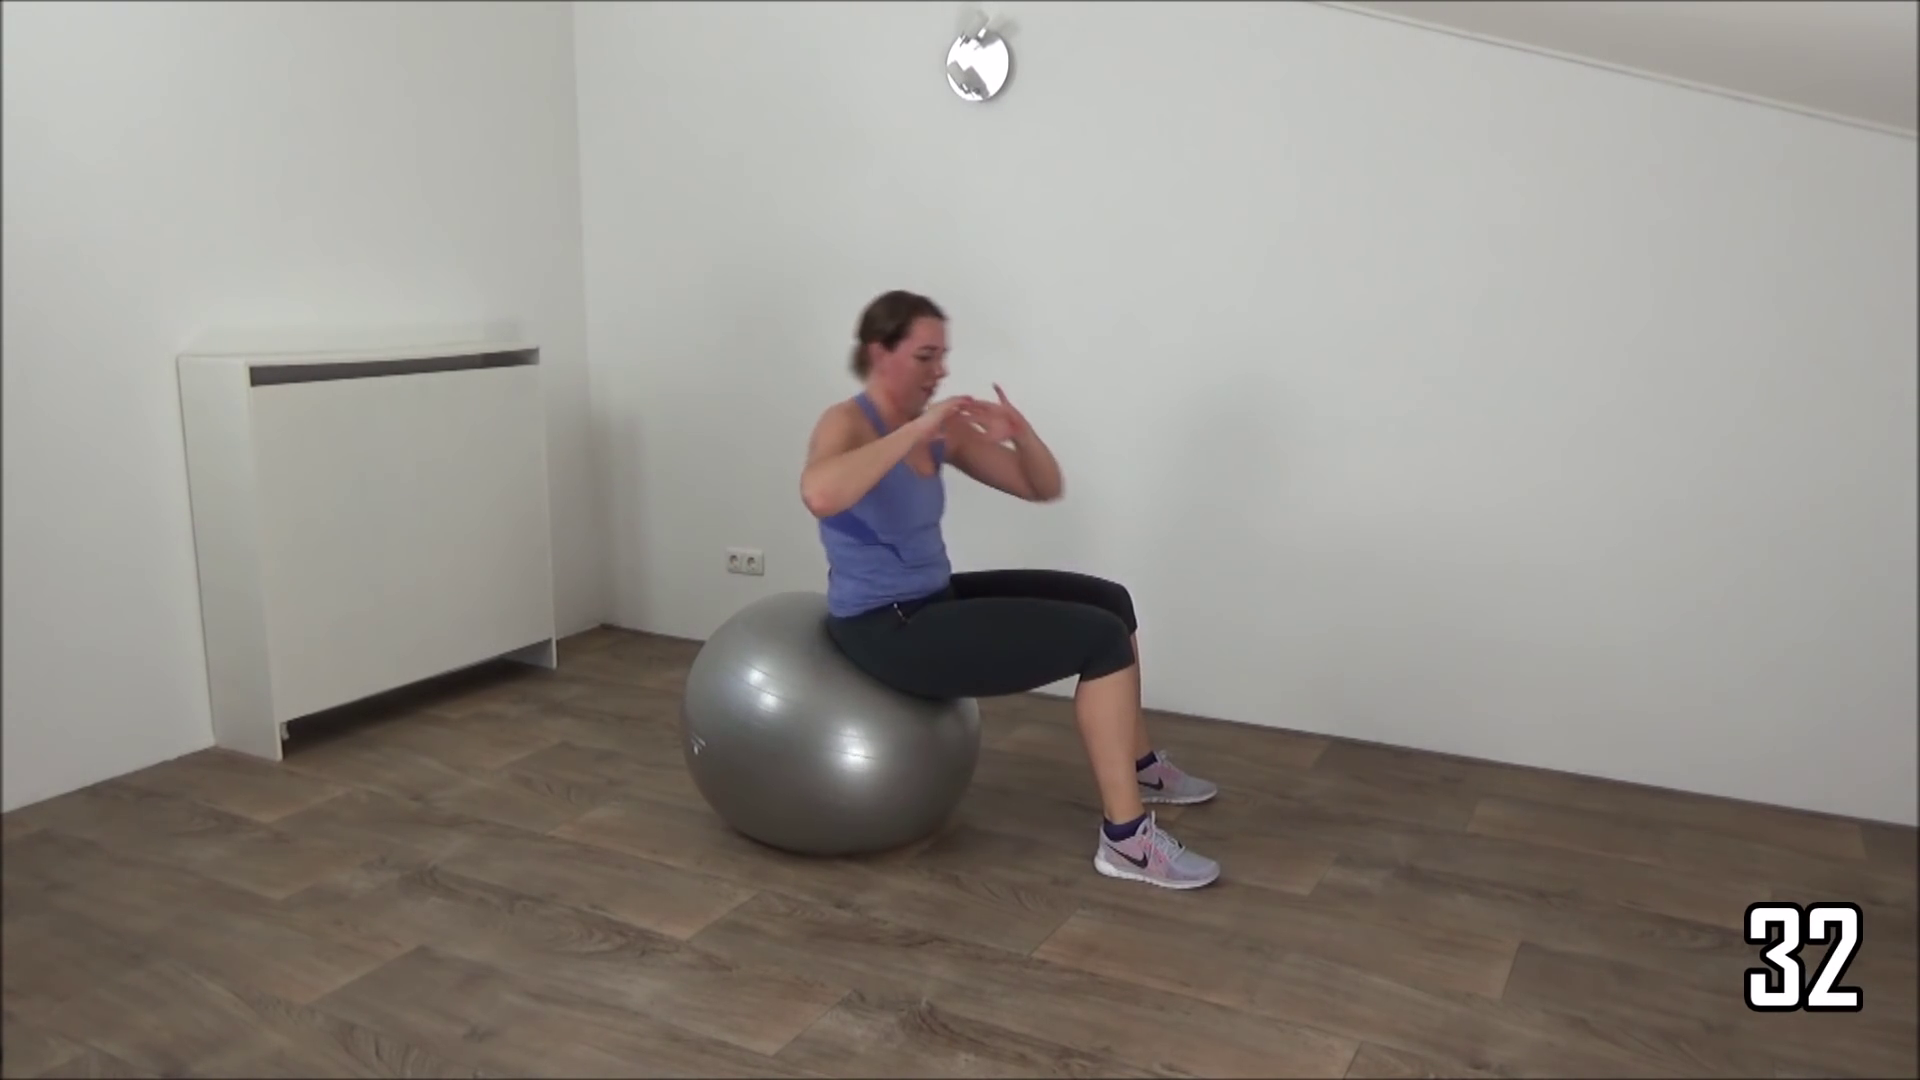yogaball: (665, 578, 992, 862)
